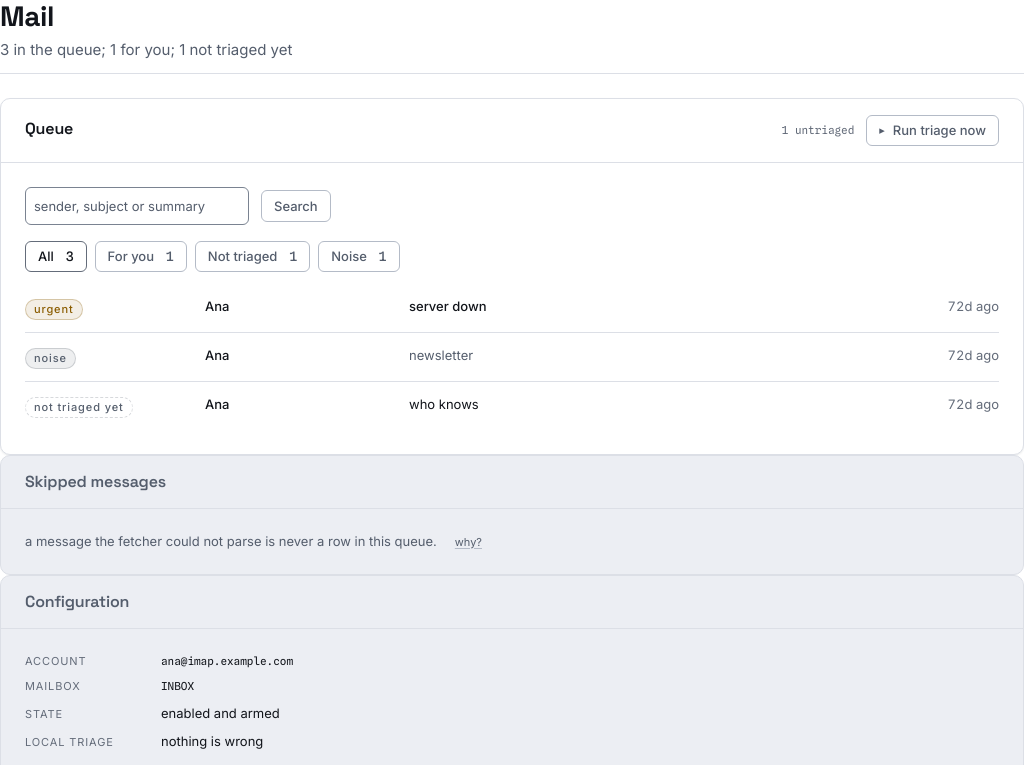
it: Mail — the triage button and the class filter › narrows the queue to the reader's own mail and counts each segment
Click the button "For you 1".
click(141, 257)  # box x1=95 y1=241 x2=187 y2=272
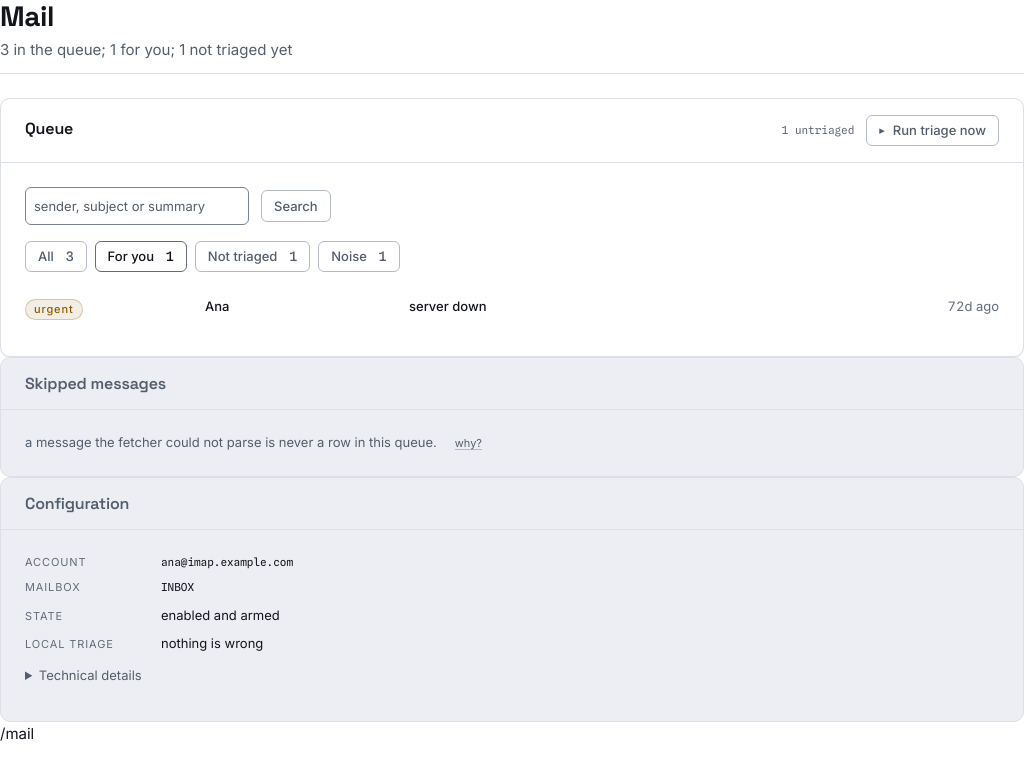
Expected: the link "server down" is shown, x1=409 y1=298 x2=486 y2=314
Result: the link "newsletter" is gone
Result: the link "who knows" is gone
